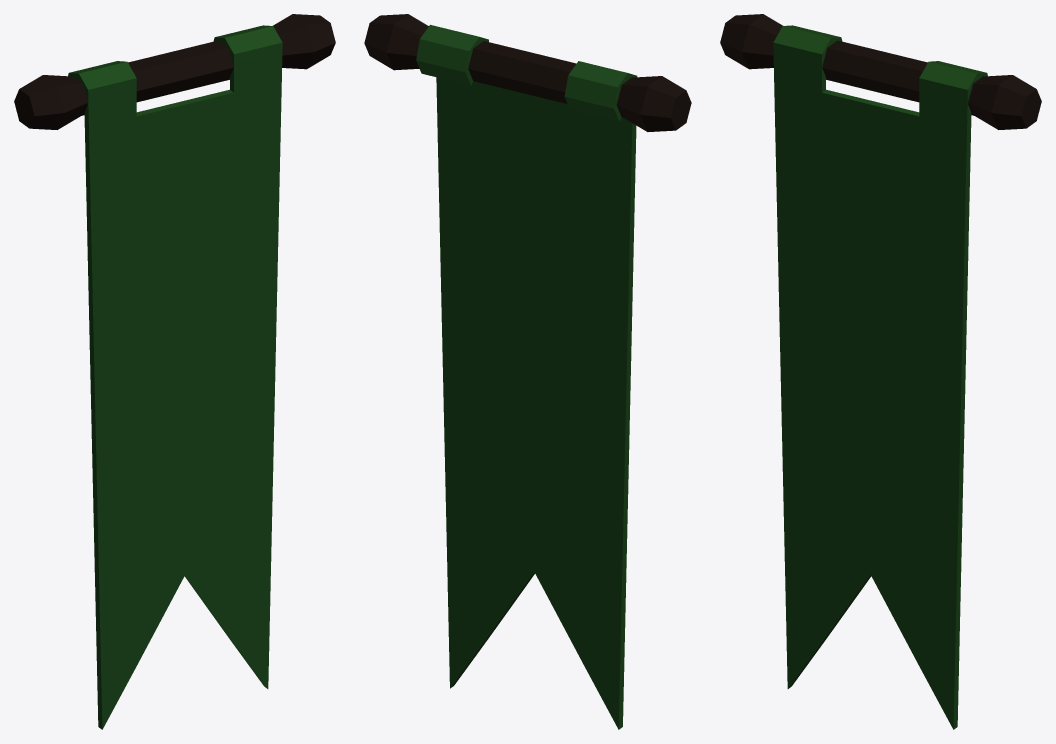
The model's file is banner_2.obj.
The picture shows the model from 3 angles, left to right: view 1: azimuth 30°, elevation 25°; view 2: azimuth 150°, elevation 25°; view 3: azimuth 330°, elevation 25°; orthographic projection.
Parts seen in each view (by area): view 1: banner_2_Cylinder.020_clothGreen, banner_2_Cylinder.020_redWood; view 2: banner_2_Cylinder.020_clothGreen, banner_2_Cylinder.020_redWood; view 3: banner_2_Cylinder.020_clothGreen, banner_2_Cylinder.020_redWood.
Boxes of the visible parts, x1,y1,x2,y2 form: banner_2_Cylinder.020_clothGreen: (68,25,282,729); banner_2_Cylinder.020_redWood: (14,14,335,129); banner_2_Cylinder.020_clothGreen: (416,24,637,729); banner_2_Cylinder.020_redWood: (364,14,691,131); banner_2_Cylinder.020_clothGreen: (773,25,987,729); banner_2_Cylinder.020_redWood: (720,14,1041,129).
Size of the model in its own units: 1.26 by 2.61 by 0.2069.
